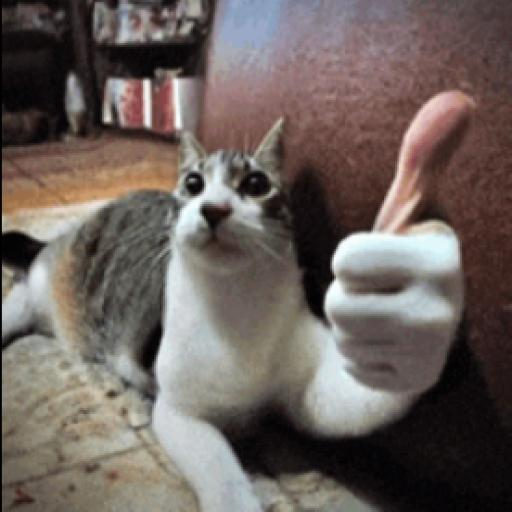Thumbs_Up: (302, 59, 504, 425)
